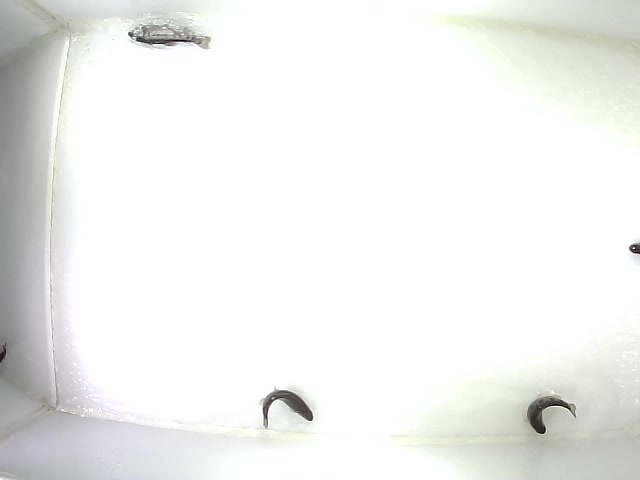fish: (257, 385, 315, 430), (127, 23, 214, 51), (523, 391, 578, 435)
